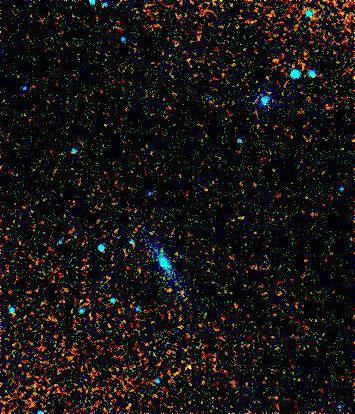star: (178, 352, 208, 382)
